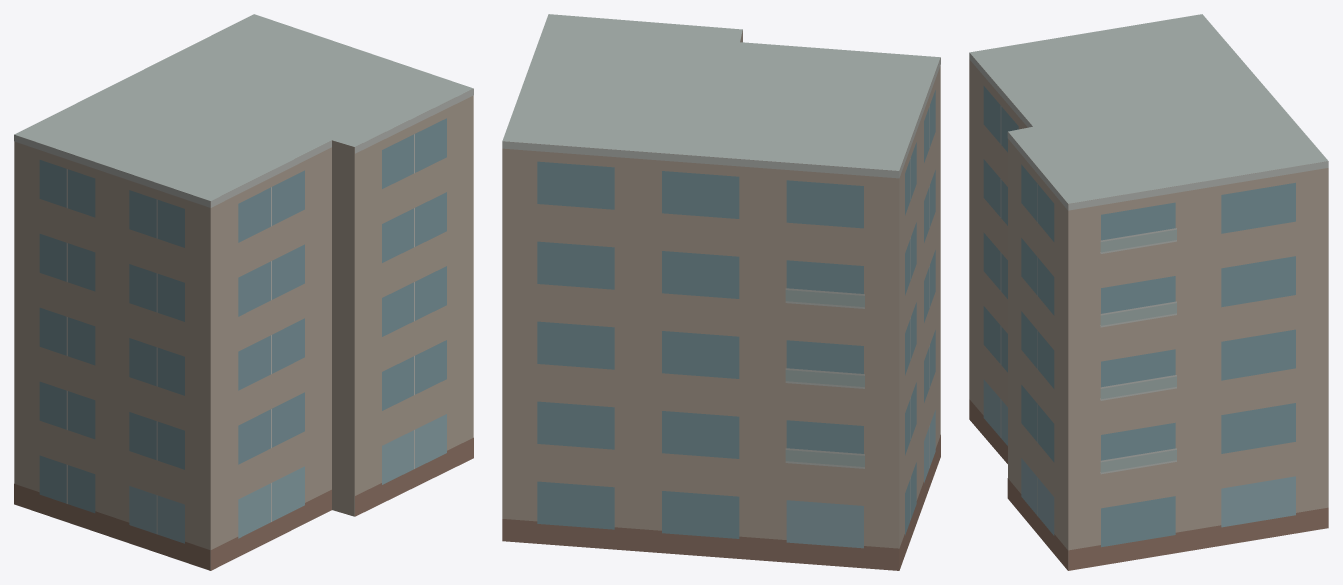
File: survey-upis-32853070.glb
3 views of the same model, side by side, from view 1: azimuth 30°, elevation 25°; view 2: azimuth 150°, elevation 25°; view 3: azimuth 270°, elevation 25° (orthographic). The views are drawn at different scales.
Parts seen in each view (by area): view 1: survey-upis-32853070.tmp; view 2: survey-upis-32853070.tmp; view 3: survey-upis-32853070.tmp.
Boxes of the visible parts, x1,y1,x2,y2 form: survey-upis-32853070.tmp: [14, 14, 473, 570]; survey-upis-32853070.tmp: [502, 14, 940, 570]; survey-upis-32853070.tmp: [969, 14, 1328, 570].
Bounding box in the file's own units: 14.66 × 13.2 × 11.72.
